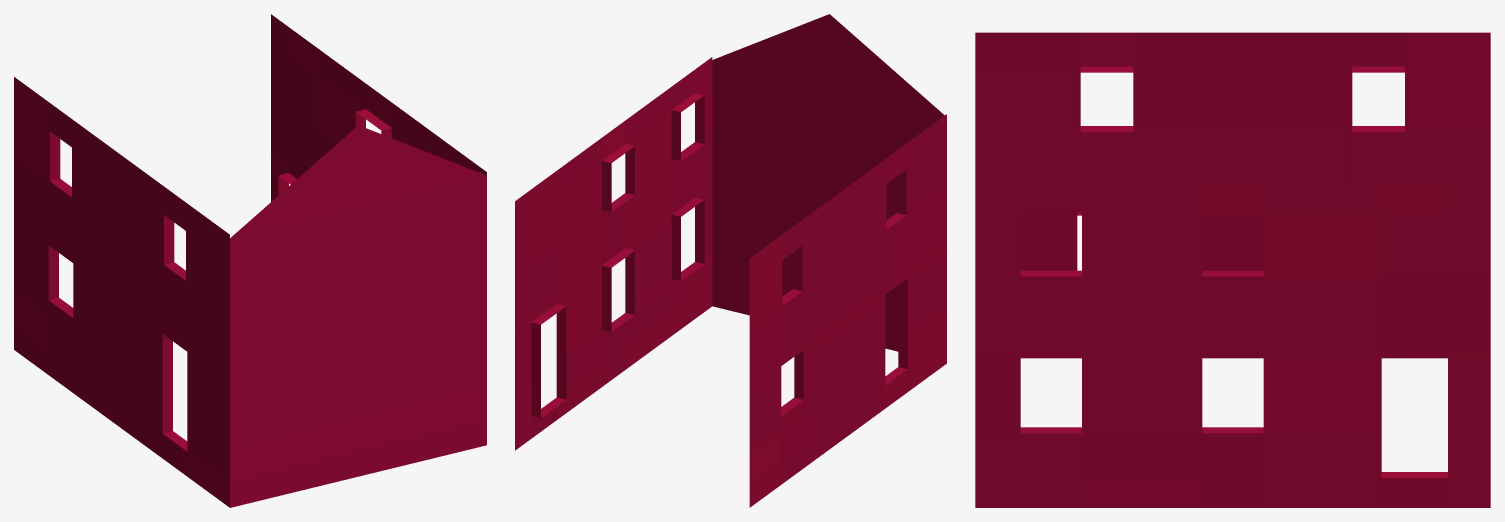
File: SM_Bld_105_Masonry.glb
3 renders of one model, left to right at view 1: azimuth 30°, elevation 25°; view 2: azimuth 150°, elevation 25°; view 3: azimuth 270°, elevation 25°, orthographic. The views are drawn at different scales.
Visible parts, largest first — view 1: SM_Bld_105_Masonry; view 2: SM_Bld_105_Masonry; view 3: SM_Bld_105_Masonry.
Part boxes in pixels (x1,y1,x2,y2): SM_Bld_105_Masonry: [14, 14, 486, 507]; SM_Bld_105_Masonry: [515, 14, 946, 507]; SM_Bld_105_Masonry: [975, 32, 1490, 507].
Size of the model in its own units: 5.38 by 7.04 by 7.84.
